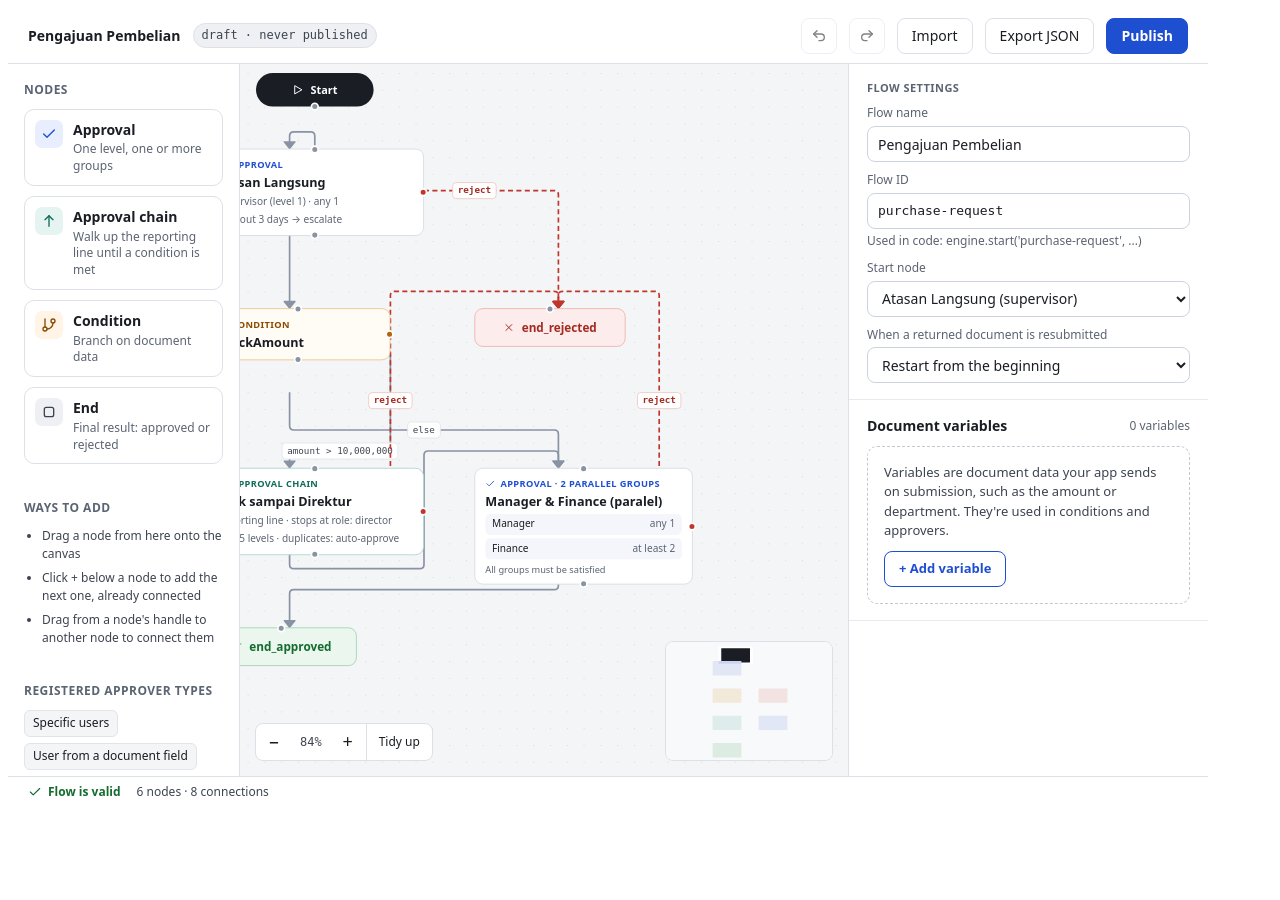
Scenario: publishing › publishes the first version with release notes
The width and height of the screenshot is (1280, 900).
Expected: the text "draft · never published" is shown, [192,23,377,48]
Click the button "Publish": (1147, 36) [1106,18,1188,54]
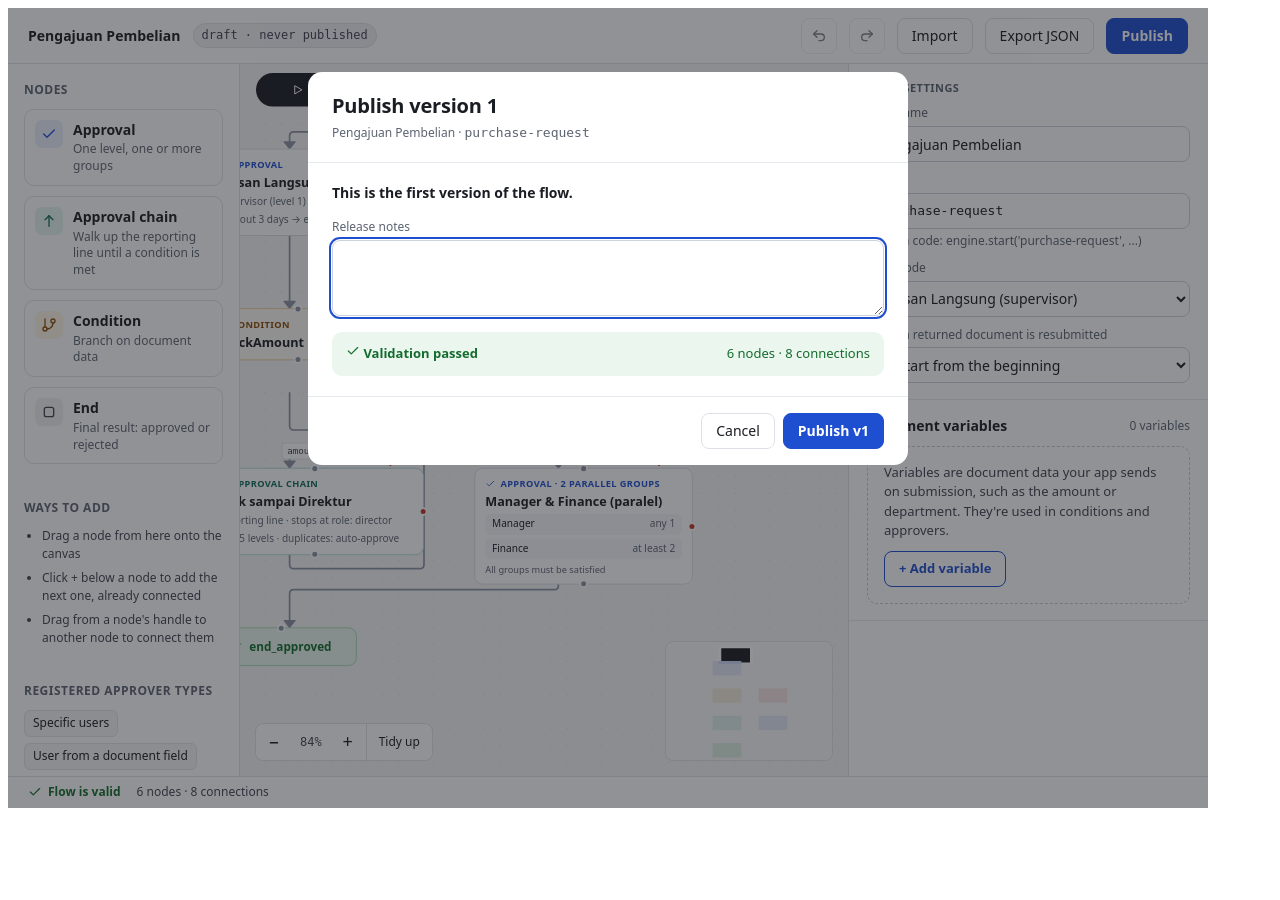
Result: the text "This is the first version of the flow." is shown at [332,183,573,202]
In the text box: (608, 278) [332,240,884,316], type "First"
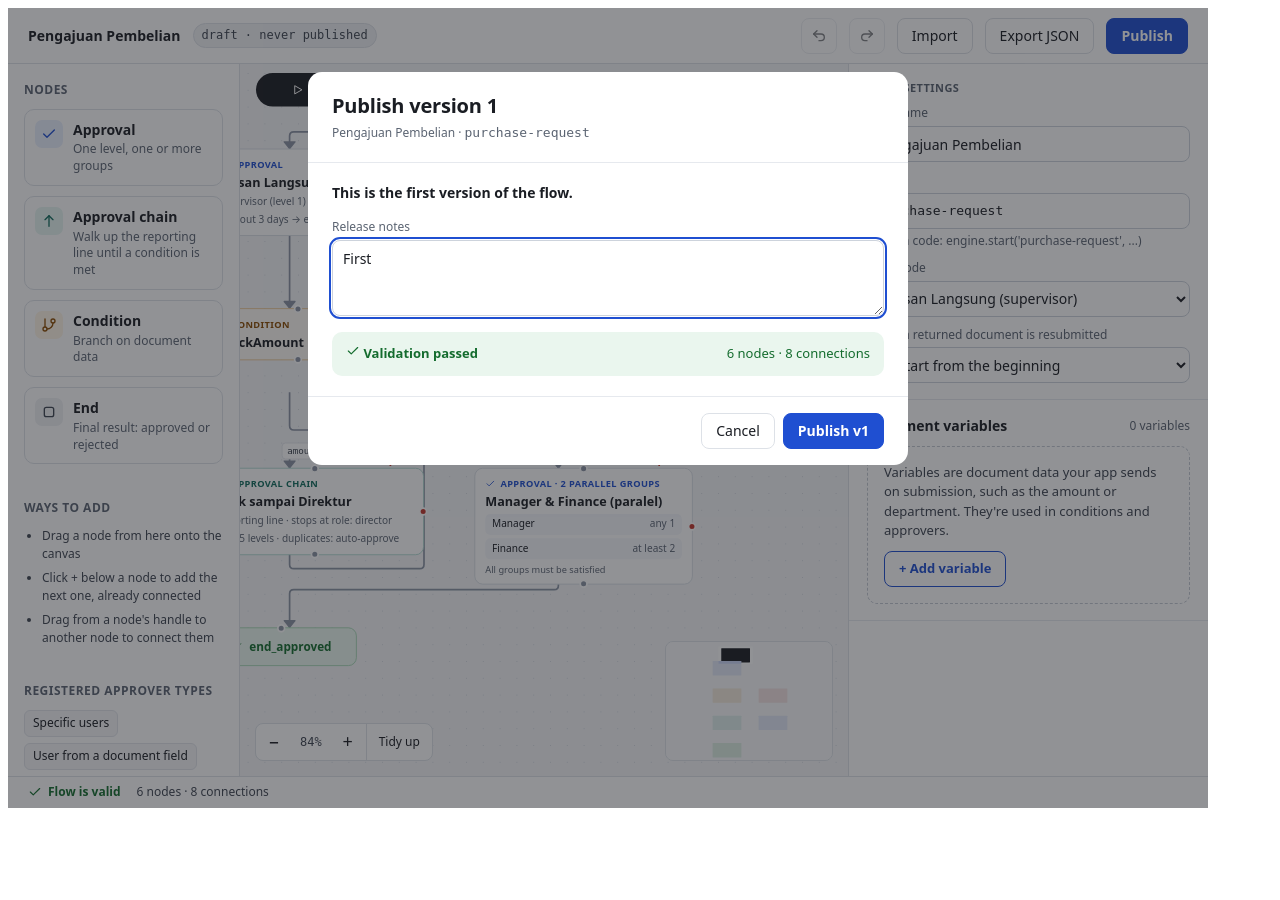
Click the button "Publish v1": (833, 431) [783,413,884,449]
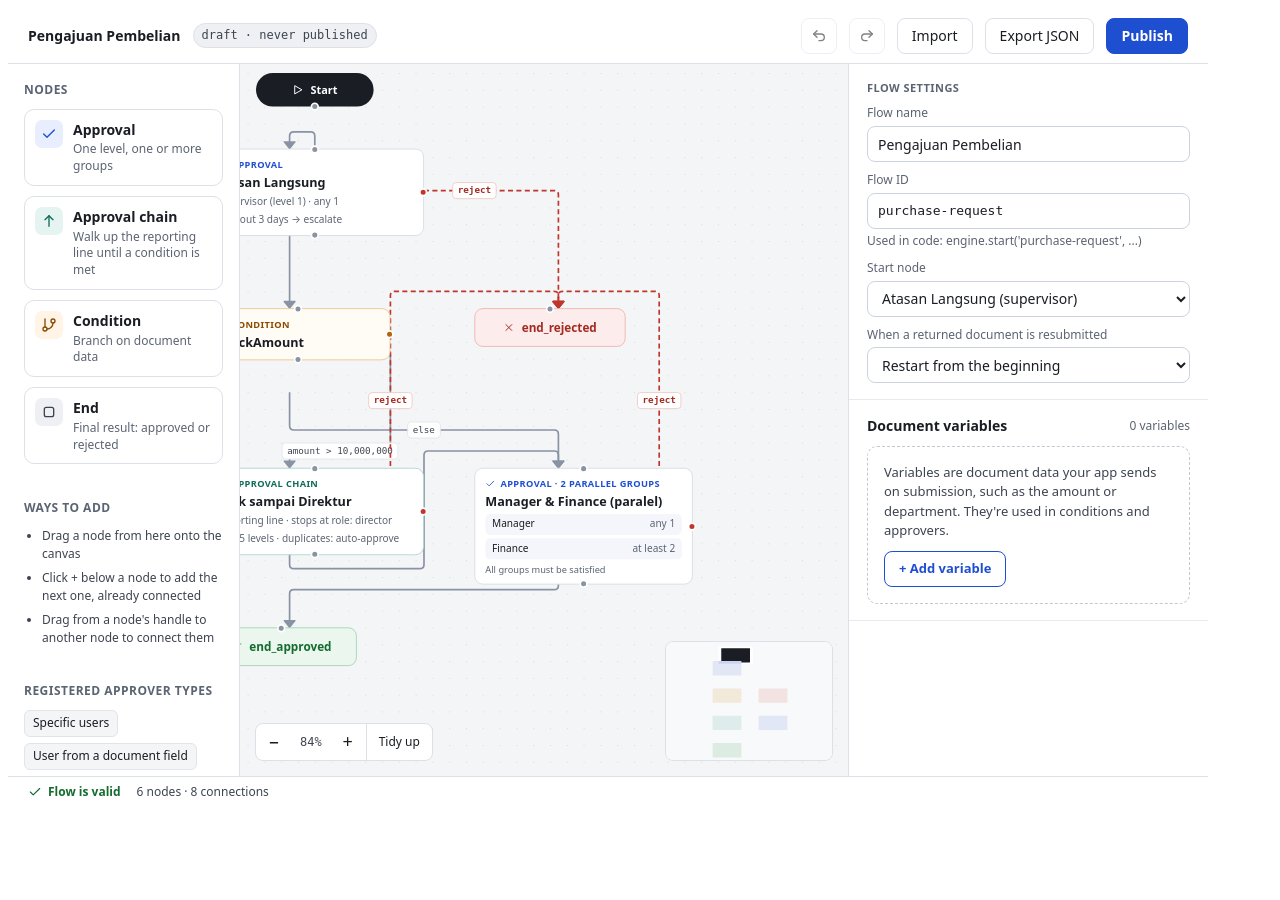
Result: the dialog is gone
